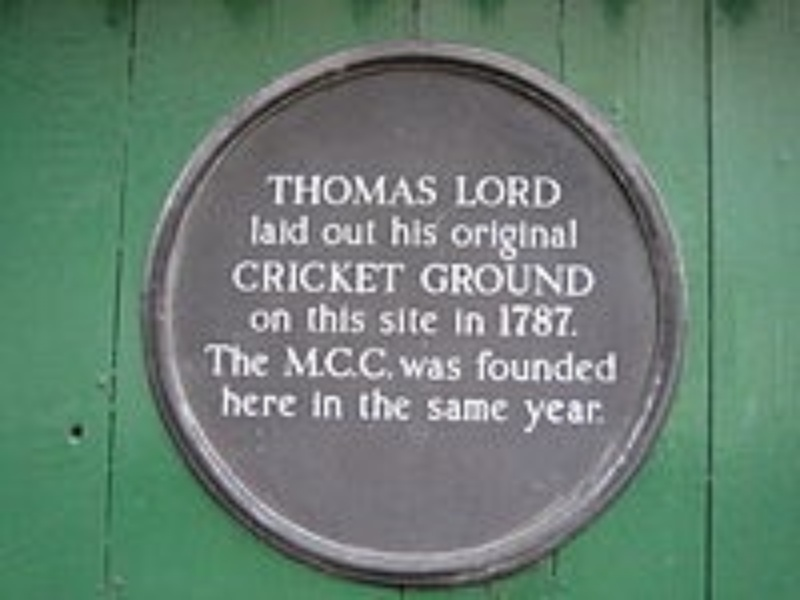text: (561, 213, 577, 257), (449, 213, 464, 257), (465, 213, 480, 257), (481, 213, 496, 257), (497, 213, 512, 257), (513, 213, 528, 257), (529, 213, 544, 257), (545, 213, 560, 257), (289, 341, 304, 385), (305, 341, 320, 385), (321, 341, 336, 385), (337, 341, 352, 385), (353, 341, 368, 385), (369, 341, 384, 385), (529, 393, 544, 437), (545, 393, 560, 437), (561, 393, 576, 437), (577, 393, 592, 437), (577, 257, 593, 297), (353, 297, 369, 337), (401, 385, 417, 425), (433, 257, 448, 297), (449, 257, 464, 297), (465, 257, 480, 297), (481, 257, 496, 297), (497, 257, 512, 297), (513, 257, 528, 297), (529, 257, 544, 297), (545, 257, 560, 297), (561, 257, 576, 297), (305, 297, 320, 337), (321, 297, 336, 337), (337, 297, 352, 337), (225, 381, 240, 421), (241, 381, 256, 421), (257, 381, 272, 421), (273, 381, 288, 421), (353, 385, 368, 425), (369, 385, 384, 425), (385, 385, 400, 425), (545, 173, 561, 209), (257, 341, 273, 377), (449, 173, 464, 209), (465, 173, 480, 209), (481, 173, 496, 209), (497, 173, 512, 209), (513, 173, 528, 209), (529, 173, 544, 209), (385, 213, 400, 249), (401, 213, 416, 249), (417, 213, 432, 249), (241, 257, 256, 293), (257, 257, 272, 293), (273, 257, 288, 293), (289, 257, 304, 293), (305, 257, 320, 293), (321, 257, 336, 293), (337, 257, 352, 293), (353, 257, 368, 293), (369, 257, 384, 293), (385, 257, 400, 293), (497, 301, 512, 337), (513, 301, 528, 337), (529, 301, 544, 337), (545, 301, 560, 337), (561, 301, 576, 337), (209, 341, 224, 377), (225, 341, 240, 377), (241, 341, 256, 377), (481, 349, 496, 385), (497, 349, 512, 385), (513, 349, 528, 385), (529, 349, 544, 385), (545, 349, 560, 385), (561, 349, 576, 385), (577, 349, 592, 385), (593, 349, 608, 385), (385, 341, 397, 385), (497, 393, 513, 425), (321, 388, 336, 421), (517, 393, 528, 437), (273, 173, 288, 205), (289, 173, 304, 205), (305, 173, 320, 205), (321, 173, 336, 205), (337, 173, 352, 205), (353, 173, 368, 205), (369, 173, 384, 205), (385, 173, 400, 205), (401, 173, 416, 205), (417, 173, 432, 205), (257, 213, 272, 245), (273, 213, 288, 245), (289, 213, 304, 245), (321, 217, 336, 249), (337, 217, 352, 249), (353, 217, 368, 249), (385, 305, 400, 337), (401, 305, 416, 337), (417, 305, 432, 337), (449, 305, 464, 337), (465, 305, 480, 337), (401, 353, 416, 385), (417, 353, 432, 385), (433, 353, 448, 385), (449, 353, 464, 385), (433, 393, 448, 425), (449, 393, 464, 425), (465, 393, 480, 425), (481, 393, 496, 425), (421, 257, 432, 297), (228, 257, 240, 293), (609, 349, 621, 385), (257, 305, 272, 333), (273, 305, 288, 333), (309, 388, 320, 421), (261, 173, 272, 205), (373, 305, 384, 337), (421, 393, 432, 425), (593, 393, 601, 437), (289, 381, 297, 421), (281, 341, 288, 385), (433, 213, 441, 249), (217, 381, 224, 421), (337, 388, 345, 421), (433, 173, 441, 205), (369, 217, 377, 249), (433, 305, 441, 337), (481, 305, 489, 337), (201, 341, 208, 377), (473, 349, 480, 385), (249, 213, 256, 245), (393, 353, 400, 385), (249, 305, 256, 333), (401, 257, 405, 293), (577, 301, 581, 337), (305, 213, 309, 245), (465, 353, 469, 385), (289, 305, 293, 333), (493, 301, 496, 337)
